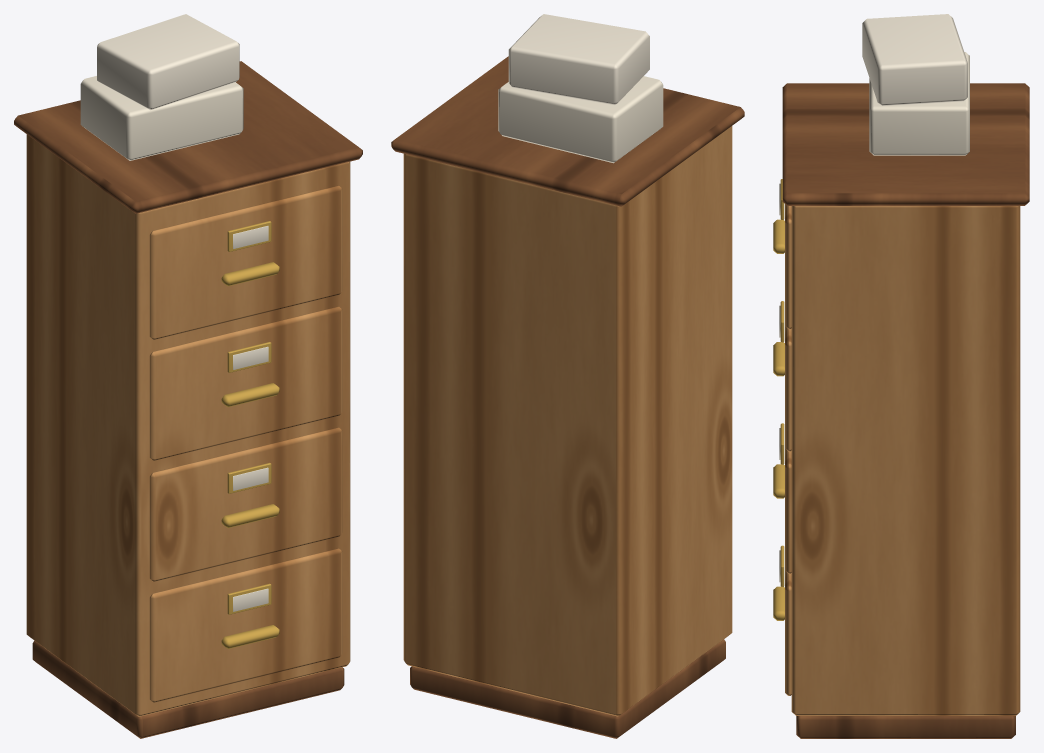
Rendered from filing_cabinet.glb.
3 renders of one model, left to right at view 1: azimuth 30°, elevation 25°; view 2: azimuth 150°, elevation 25°; view 3: azimuth 270°, elevation 25°, orthographic.
Parts seen in each view (by area): view 1: model; view 2: model; view 3: model.
Boxes of the visible parts, x1,y1,x2,y2 form: model: [14, 14, 362, 738]; model: [391, 14, 744, 738]; model: [773, 14, 1029, 738].
Size of the model in its own units: 0.59 by 1.55 by 0.56.
5 materials, 2 textured.
